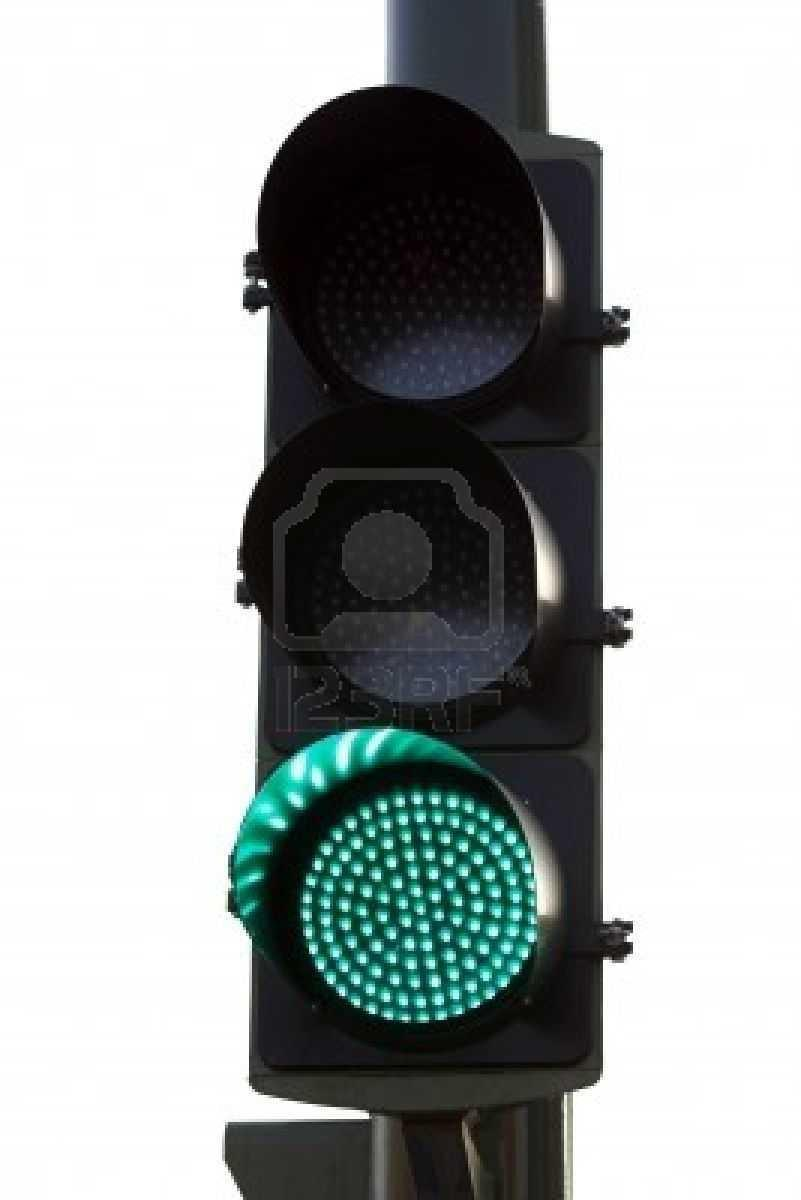2: (251, 111, 591, 1068)
3: (271, 113, 573, 434), (256, 436, 571, 728)
red traffic light: (264, 720, 560, 1054)
